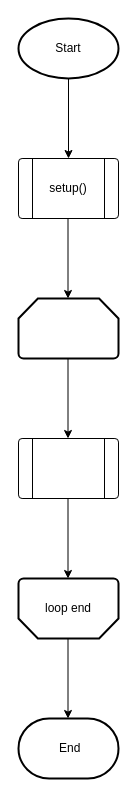
Image size: 136x796. Some labels were removed from this diagram. The shapes that lost their labels are listed below. From the top down, each one's box as (x1, y1, x2, y2) in pixels, then its label:
(17, 297, 119, 359): loop start
(18, 438, 118, 498): loop()
